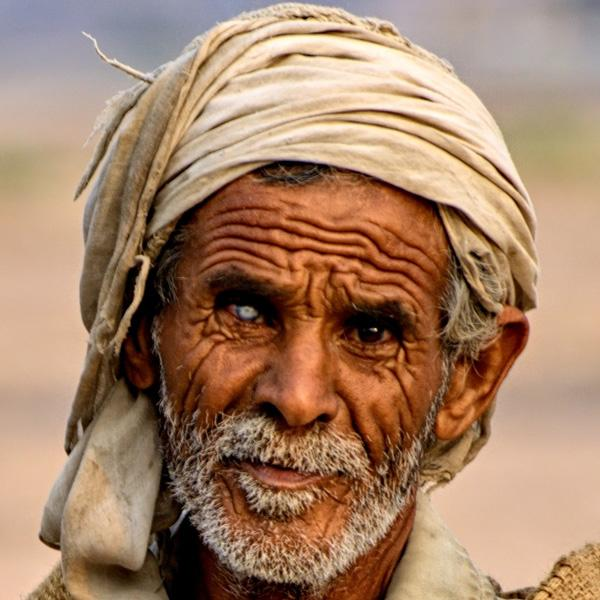Eyes: (204, 280, 281, 338), (328, 309, 403, 354)
